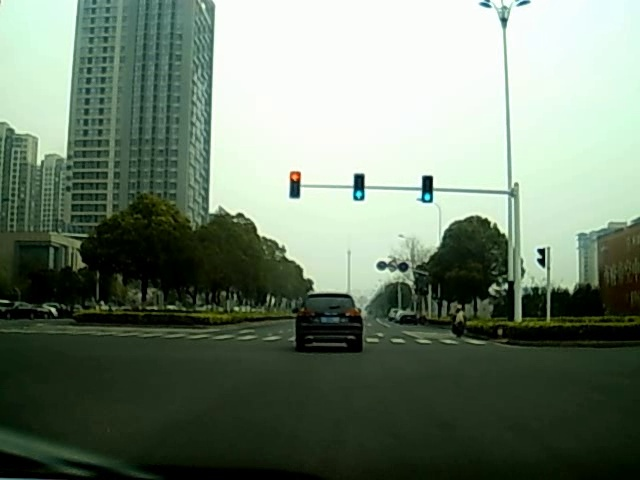Traffic_Light_go: (354, 174, 365, 200), (422, 177, 433, 200)
Traffic_Light_stop: (289, 172, 298, 194)
